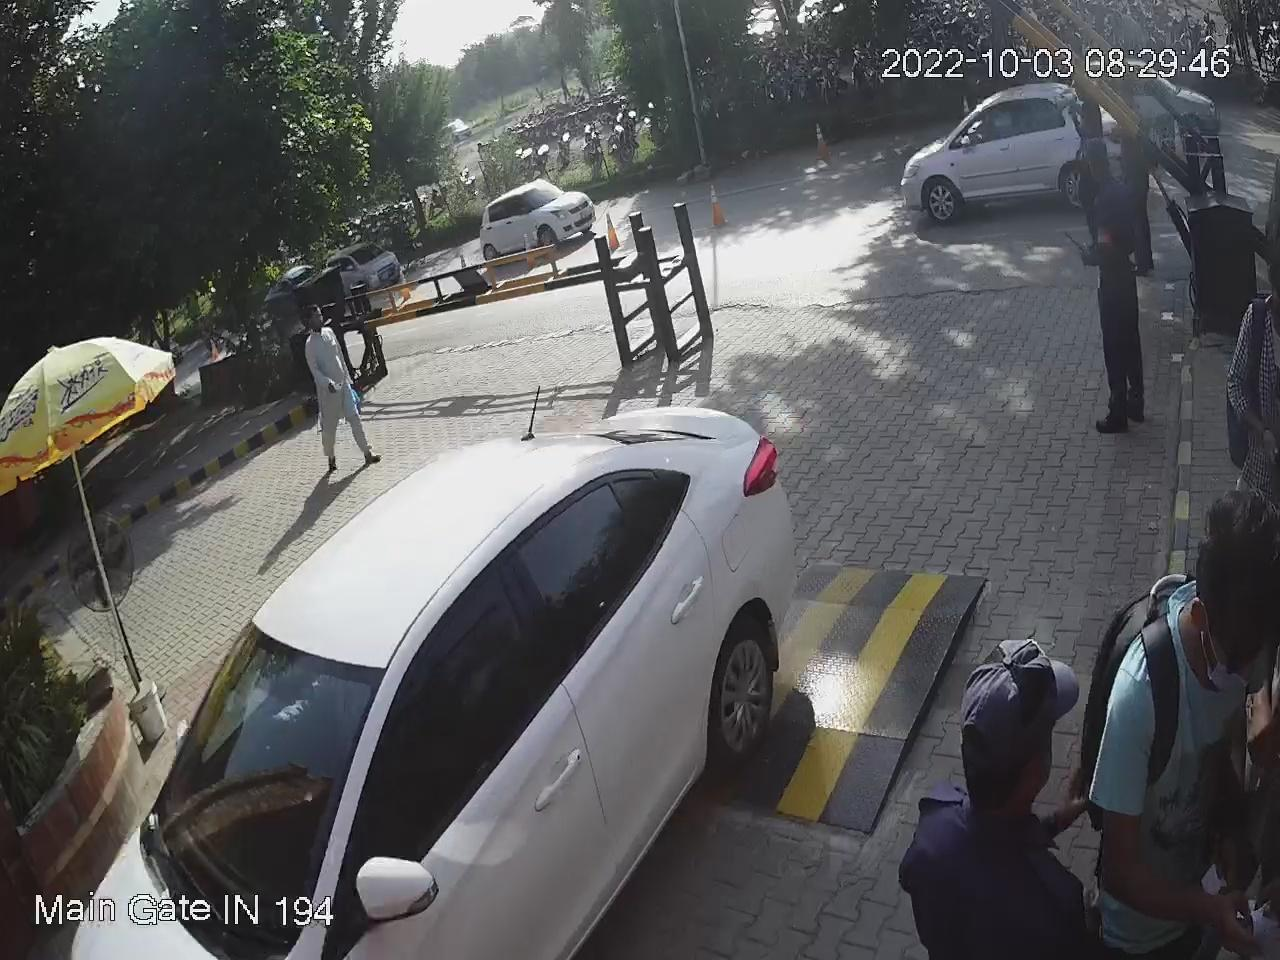windshield: (141, 625, 400, 960)
